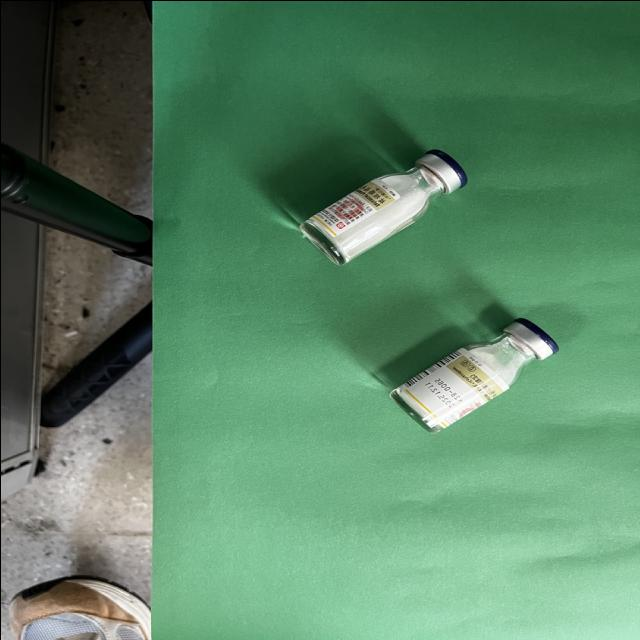Vials: (298, 146, 467, 264), (389, 316, 558, 432)
